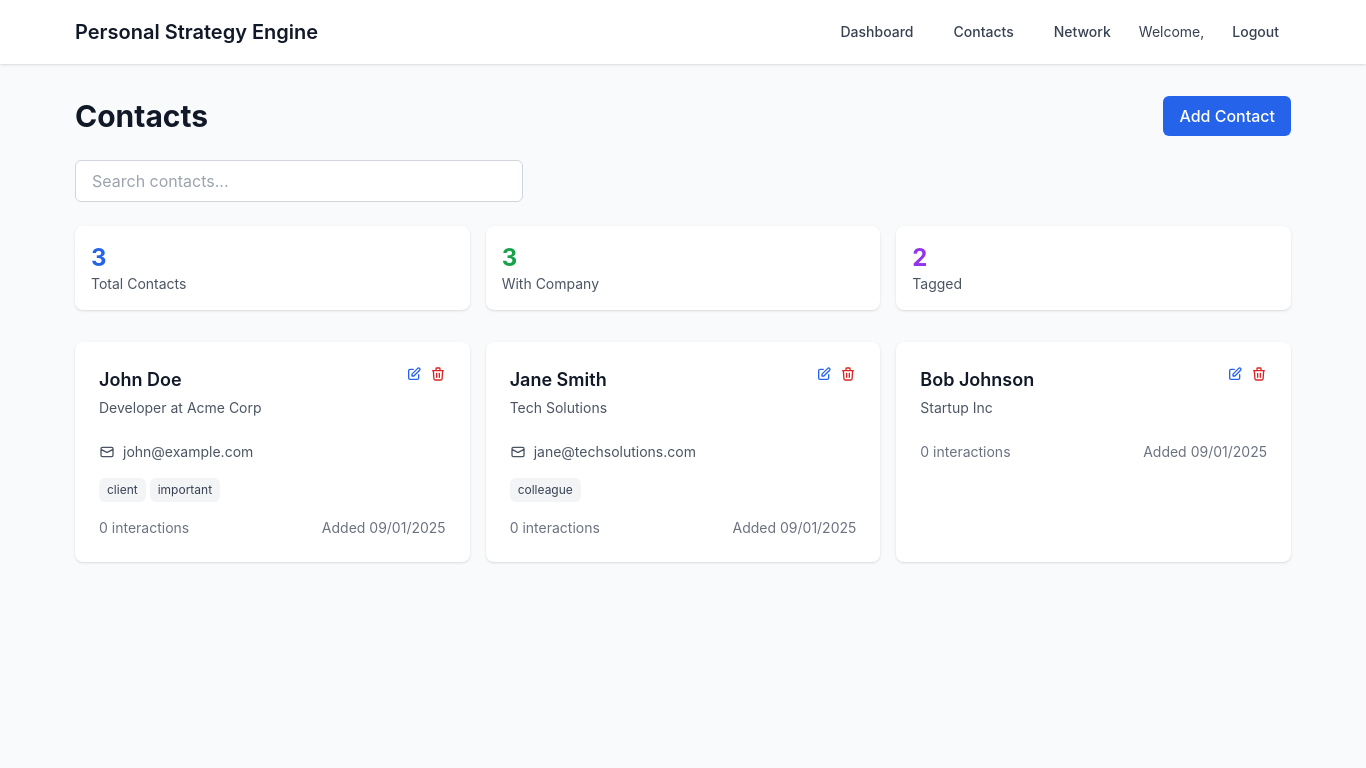
Test: ContactsPage Integration › Contact Form Integration › should open add contact form
The image size is (1366, 768).
Click the button "Add Contact" at [1227, 116], box [1163, 96, 1291, 136]
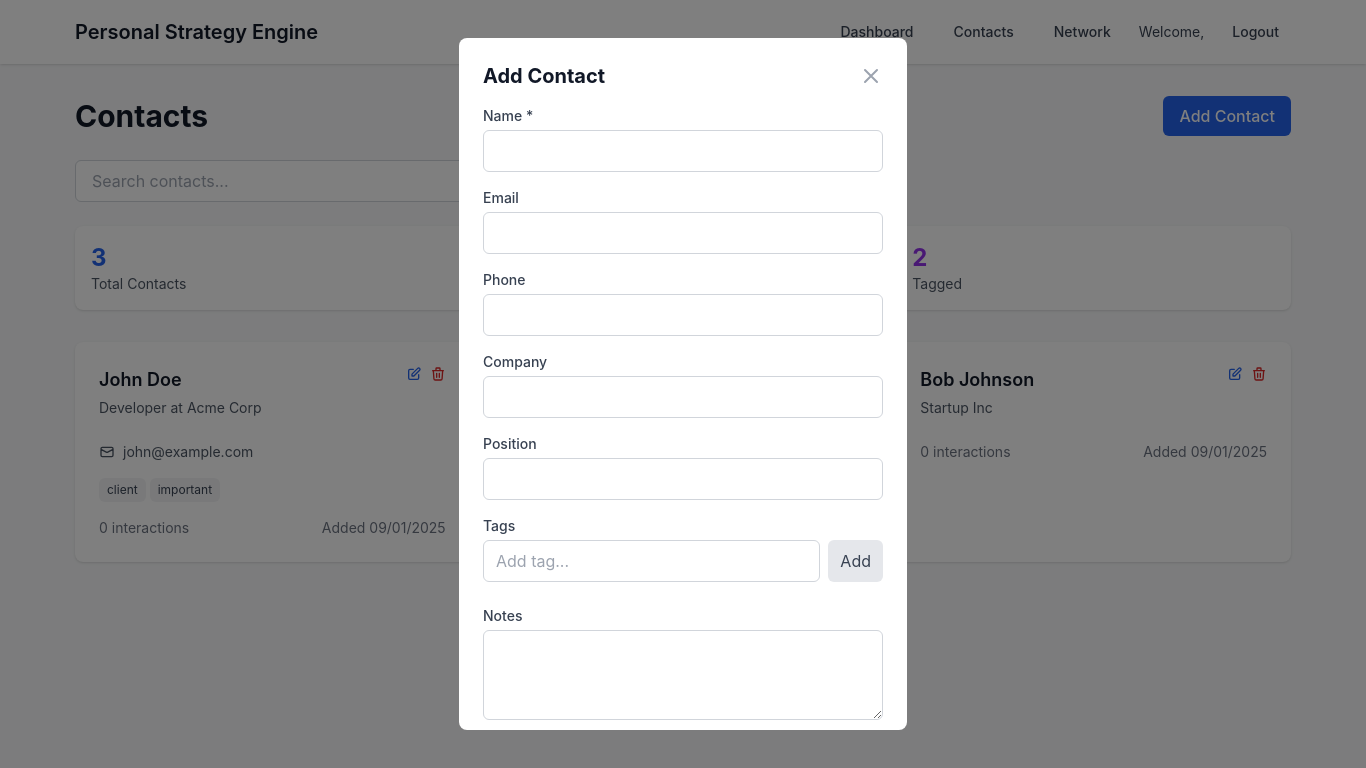
expect the heading "Add Contact" is shown: met, box [483, 62, 605, 90]
expect the field labelled "Name *" is shown: met, box [483, 130, 883, 172]
